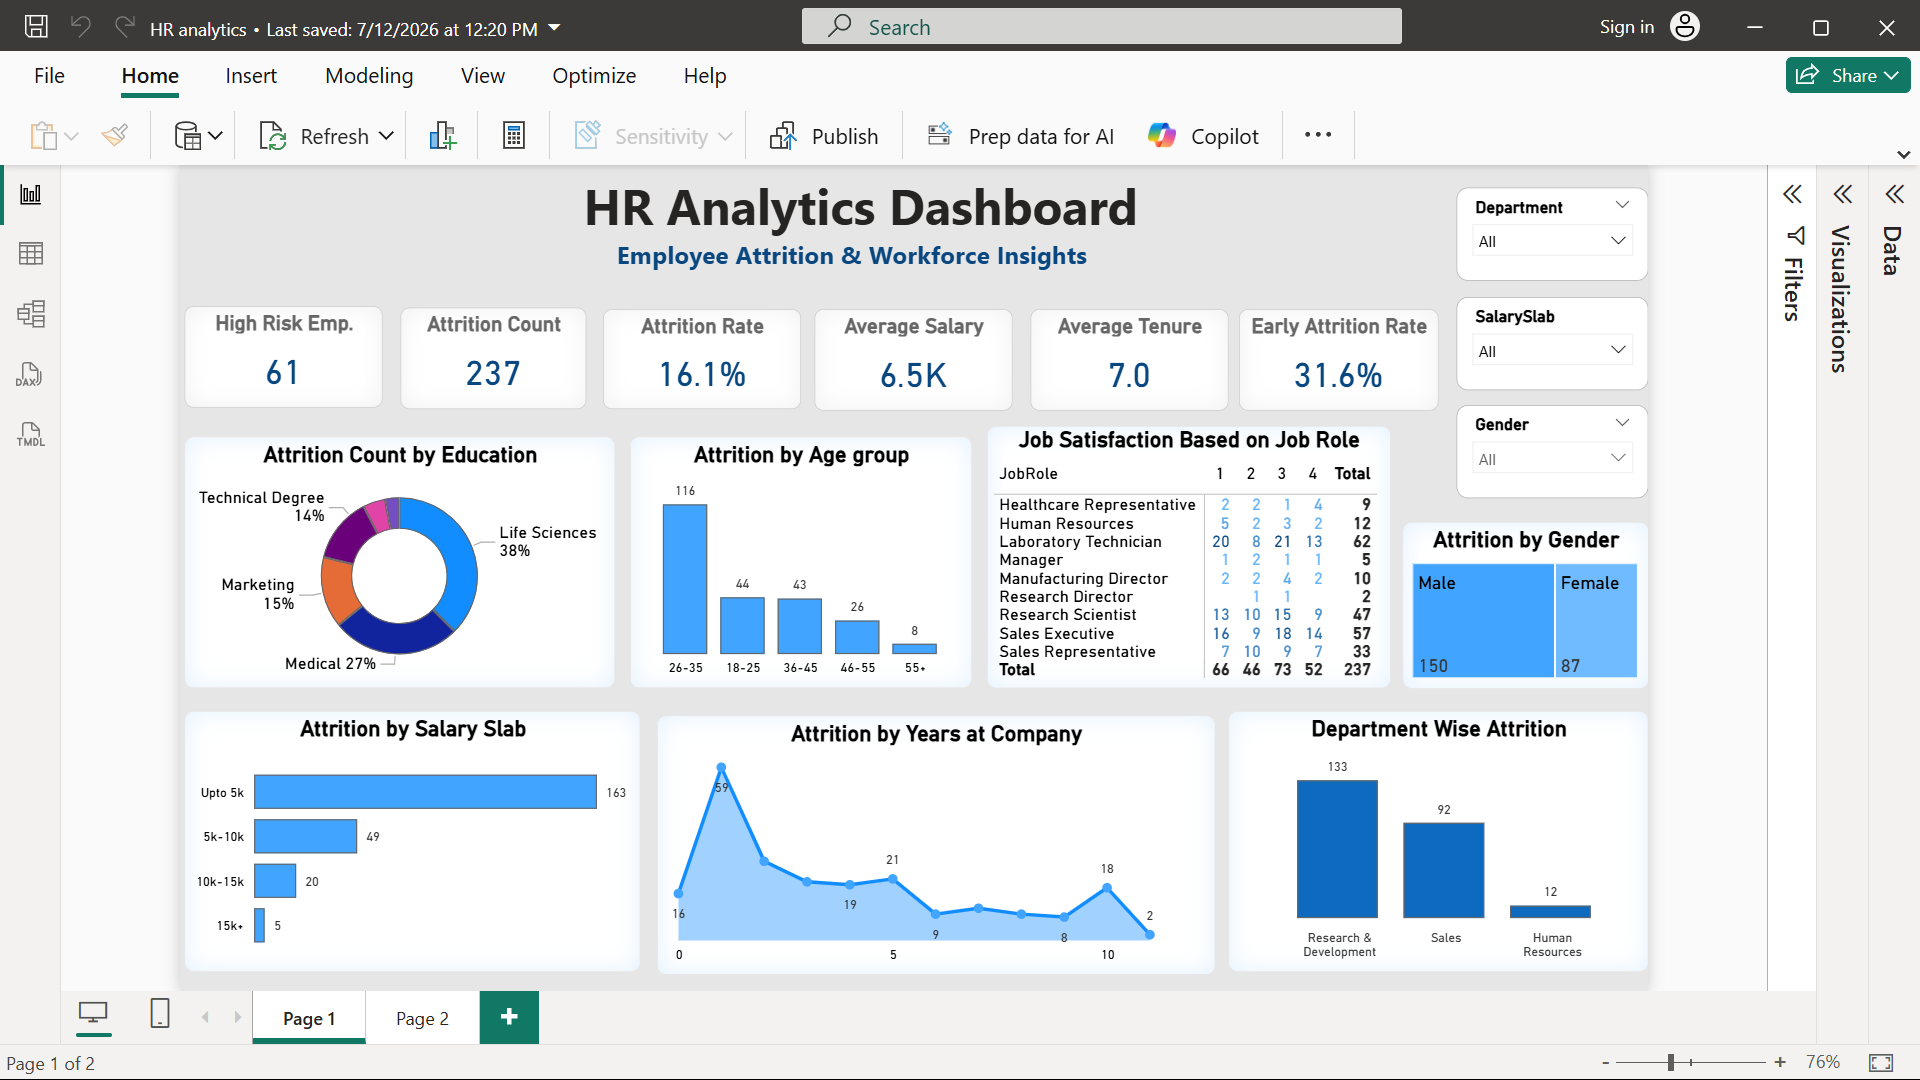

The dashboard page shown, as its layout file describes it:
{"tool":"powerbi","page":{"name":"Page 1","canvas":[1280,720],"ordinal":0},"visuals":[{"type":"card","title":" High Risk Emp.","fields":{"Values":["HR_Analytics.High Risk Employees"]},"box":[3.9,122.9,172.6,88.9],"z":0},{"type":"card","title":"Attrition Count","fields":{"Values":["HR_Analytics.Attrition Count"]},"box":[192.2,124.2,162.1,88.9],"z":1000},{"type":"card","title":"Attrition Rate","fields":{"Values":["HR_Analytics.Attrition Rate"]},"box":[368.7,125.5,172.6,87.6],"z":2000},{"type":"card","title":"Average Salary","fields":{"Values":["HR_Analytics.Average Salary"]},"box":[553.1,125.5,172.6,88.9],"z":3000},{"type":"card","title":"Average Tenure","fields":{"Values":["HR_Analytics.Average Tenure"]},"box":[741.4,125.5,172.6,88.9],"z":4000},{"type":"card","title":"Early Attrition Rate","fields":{"Values":["HR_Analytics.Early Attrition Rate"]},"box":[923.1,125.5,173.9,88.9],"z":5000},{"type":"donutChart","title":"Attrition Count by Education","fields":{"Category":["HR_Analytics.EducationField"],"Y":["HR_Analytics.Attrition Count"]},"box":[3.9,236.7,375.3,219.7],"z":6000},{"type":"clusteredColumnChart","title":" Attrition by Age group","fields":{"Category":["HR_Analytics.AgeGroup"],"Y":["HR_Analytics.Attrition Count"]},"box":[392.3,236.7,298.1,219.7],"z":7000},{"type":"pivotTable","title":"Job Satisfaction Based on Job Role","fields":{"Rows":["HR_Analytics.JobRole"],"Columns":["HR_Analytics.JobSatisfaction"],"Values":["HR_Analytics.Attrition Count"]},"box":[703.5,227.5,351.7,228.8],"z":8000},{"type":"barChart","title":" Attrition by Salary Slab","fields":{"Category":["HR_Analytics.SalarySlab"],"Y":["HR_Analytics.Attrition Count"]},"box":[3.9,475.9,397.5,227.5],"z":9000},{"type":"clusteredColumnChart","title":"Department Wise Attrition","fields":{"Category":["HR_Analytics.Department"],"Y":["HR_Analytics.Attrition Count"]},"box":[914,475.9,366.1,227.5],"z":10000},{"type":"areaChart","title":" Attrition by Years at Company","fields":{"Category":["HR_Analytics.YearsAtCompany"],"Y":["HR_Analytics.Attrition Count"]},"box":[415.8,479.9,486.4,226.2],"z":11000},{"type":"treemap","title":" Attrition by Gender","fields":{"Group":["HR_Analytics.Gender"],"Values":["HR_Analytics.Attrition Count"]},"box":[1065.6,311.2,214.4,145.1],"z":12000},{"type":"textbox","box":[0,1.3,1018.6,99.4],"z":13000},{"type":"slicer","fields":{"Values":["HR_Analytics.Department"]},"box":[1112.7,19.6,167.4,81.1],"z":14000},{"type":"slicer","fields":{"Values":["HR_Analytics.SalarySlab"]},"box":[1112.7,115.1,167.4,81.1],"z":15000},{"type":"slicer","fields":{"Values":["HR_Analytics.Gender"]},"box":[1112.7,209.2,167.4,81.1],"z":16000}]}

Visuals, with their boxes on the page's 1280x720 design canvas (x1, y1, x2, y2). These are canvas units, not pixel positions in the 1920x1080 screenshot, which may show the page scaled, cropped or inside an application window:
" High Risk Emp." card: x1=4 y1=123 x2=176 y2=212
"Attrition Count" card: x1=192 y1=124 x2=354 y2=213
"Attrition Rate" card: x1=369 y1=126 x2=541 y2=213
"Average Salary" card: x1=553 y1=126 x2=726 y2=214
"Average Tenure" card: x1=741 y1=126 x2=914 y2=214
"Early Attrition Rate" card: x1=923 y1=126 x2=1097 y2=214
"Attrition Count by Education" donutChart: x1=4 y1=237 x2=379 y2=456
" Attrition by Age group" clusteredColumnChart: x1=392 y1=237 x2=690 y2=456
"Job Satisfaction Based on Job Role" pivotTable: x1=704 y1=228 x2=1055 y2=456
" Attrition by Salary Slab" barChart: x1=4 y1=476 x2=401 y2=703
"Department Wise Attrition" clusteredColumnChart: x1=914 y1=476 x2=1280 y2=703
" Attrition by Years at Company" areaChart: x1=416 y1=480 x2=902 y2=706
" Attrition by Gender" treemap: x1=1066 y1=311 x2=1280 y2=456
textbox: x1=0 y1=1 x2=1019 y2=101
slicer - HR_Analytics.Department: x1=1113 y1=20 x2=1280 y2=101
slicer - HR_Analytics.SalarySlab: x1=1113 y1=115 x2=1280 y2=196
slicer - HR_Analytics.Gender: x1=1113 y1=209 x2=1280 y2=290
